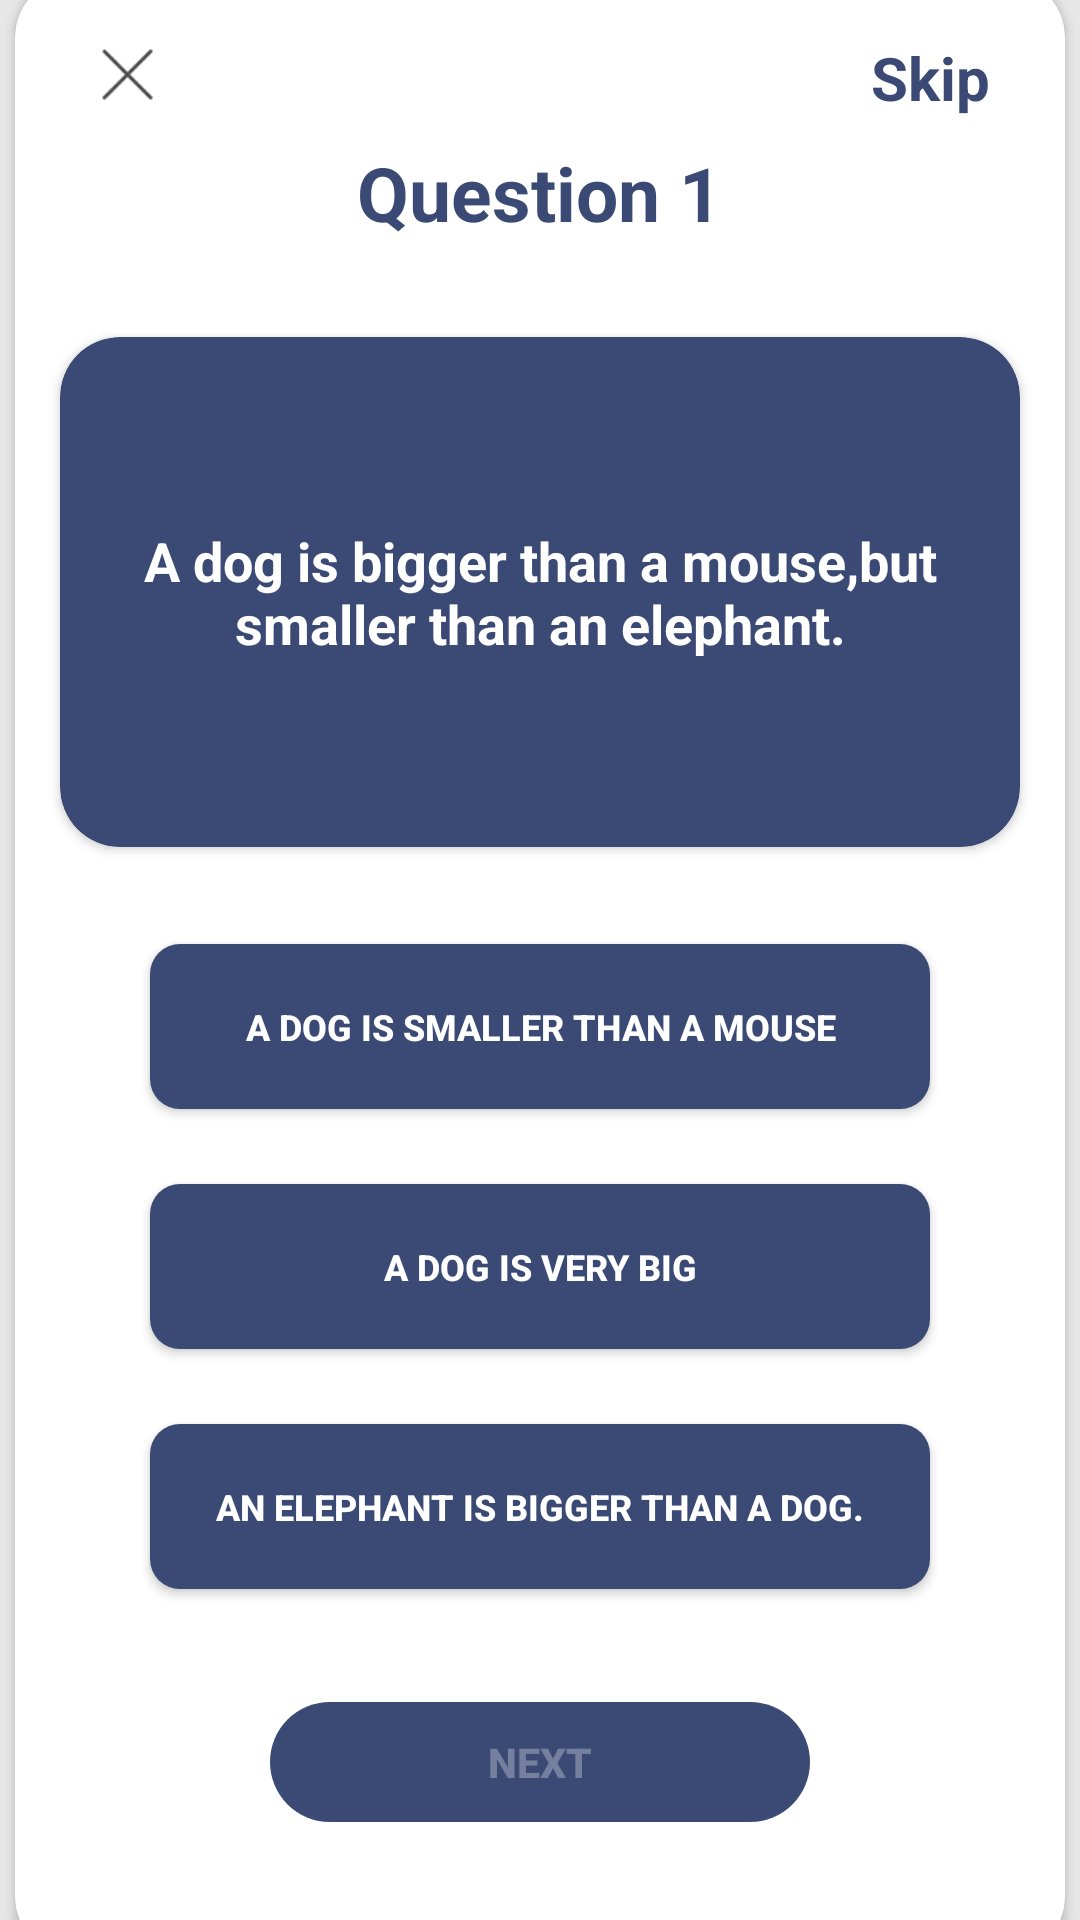

Locate icon controls on the screen. Image size 1080px×1920px, boxes as {"x1": x1, "y1": y1, "x2": x2, "y2": y2}.
exit: {"x1": 102, "y1": 49, "x2": 153, "y2": 100}
